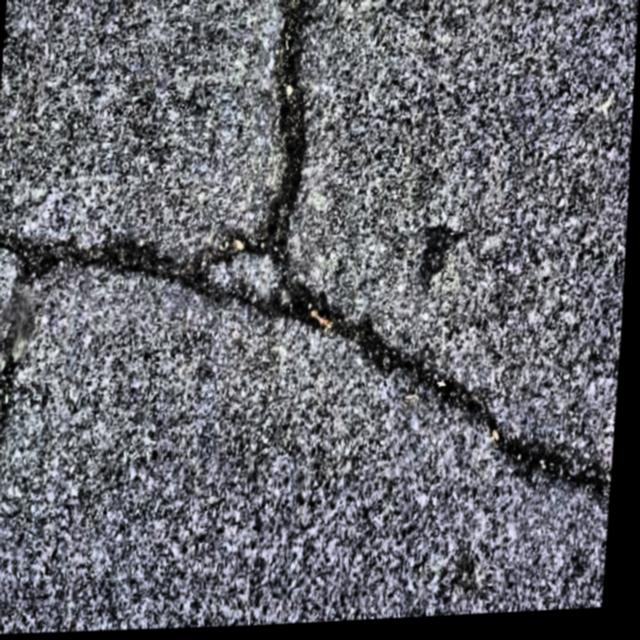Clogged Drains: (0, 238, 616, 507), (264, 0, 337, 331)
